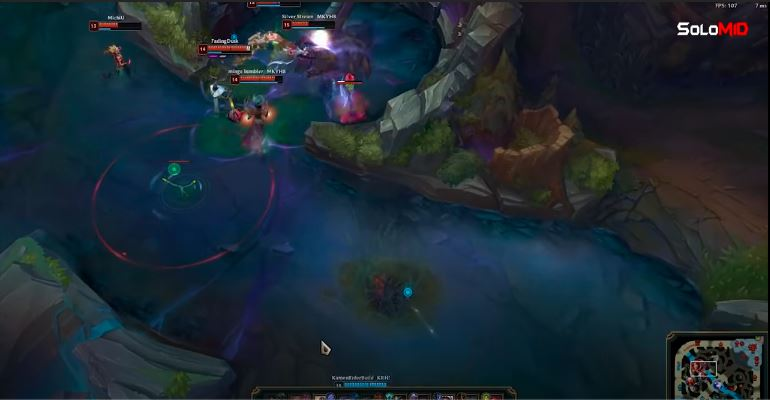w: (228, 70, 287, 88), (85, 18, 145, 34), (279, 18, 339, 32), (195, 43, 255, 56), (245, 1, 302, 9)
